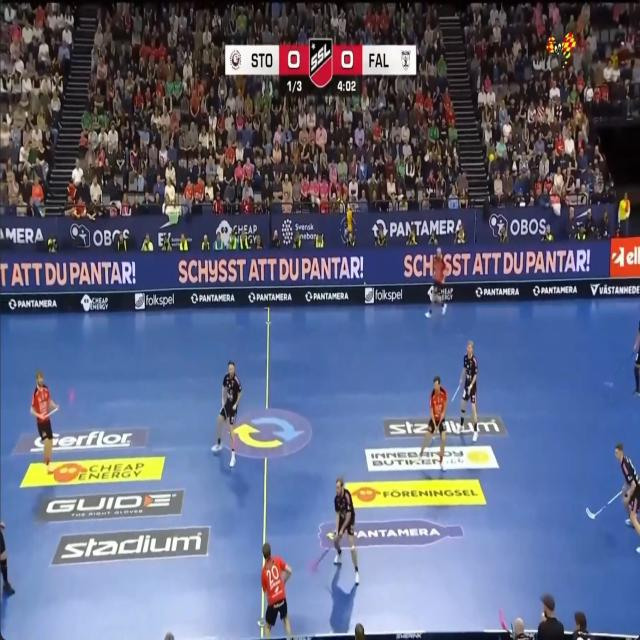player: (211, 360, 242, 466), (261, 543, 291, 637), (333, 477, 359, 583), (30, 371, 58, 466), (420, 376, 448, 469), (615, 443, 640, 534), (460, 341, 478, 442), (425, 247, 447, 317), (0, 522, 14, 595), (634, 323, 640, 395), (636, 546, 640, 553)
stick: (586, 491, 622, 519), (499, 610, 515, 639), (309, 548, 326, 571), (623, 350, 637, 368), (451, 383, 460, 402), (45, 407, 59, 417), (222, 406, 228, 419), (604, 380, 614, 387), (257, 618, 264, 626), (327, 534, 332, 539), (612, 371, 615, 373), (618, 363, 619, 365)
